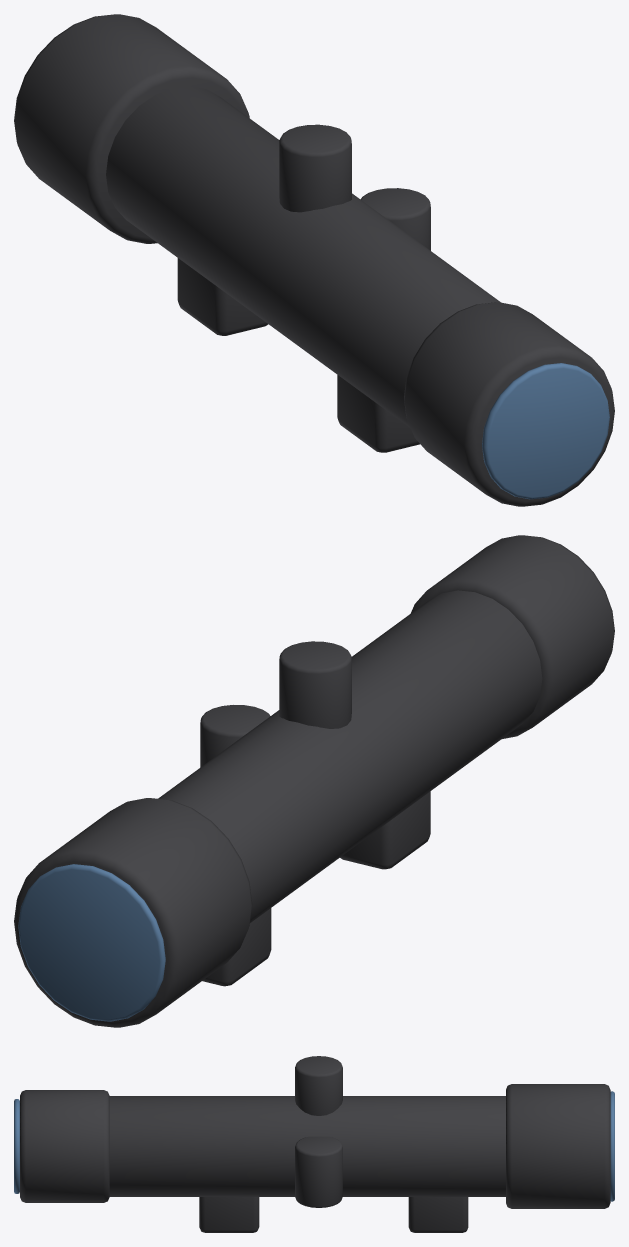
Rendered from att_scope_shotgun.glb.
3 views of the same model, one above another, from view 1: azimuth 30°, elevation 25°; view 2: azimuth 150°, elevation 25°; view 3: azimuth 270°, elevation 25° (orthographic). The views are drawn at different scales.
Parts seen in each view (by area): view 1: att_scope_shotgun; view 2: att_scope_shotgun; view 3: att_scope_shotgun.
Boxes of the visible parts, left/top/right/bottom form: att_scope_shotgun: left=14, top=14, right=614, bottom=506; att_scope_shotgun: left=14, top=535, right=614, bottom=1027; att_scope_shotgun: left=14, top=1056, right=614, bottom=1232.
Bounding box in the file's own units: 0.049 × 0.0595 × 0.201.
